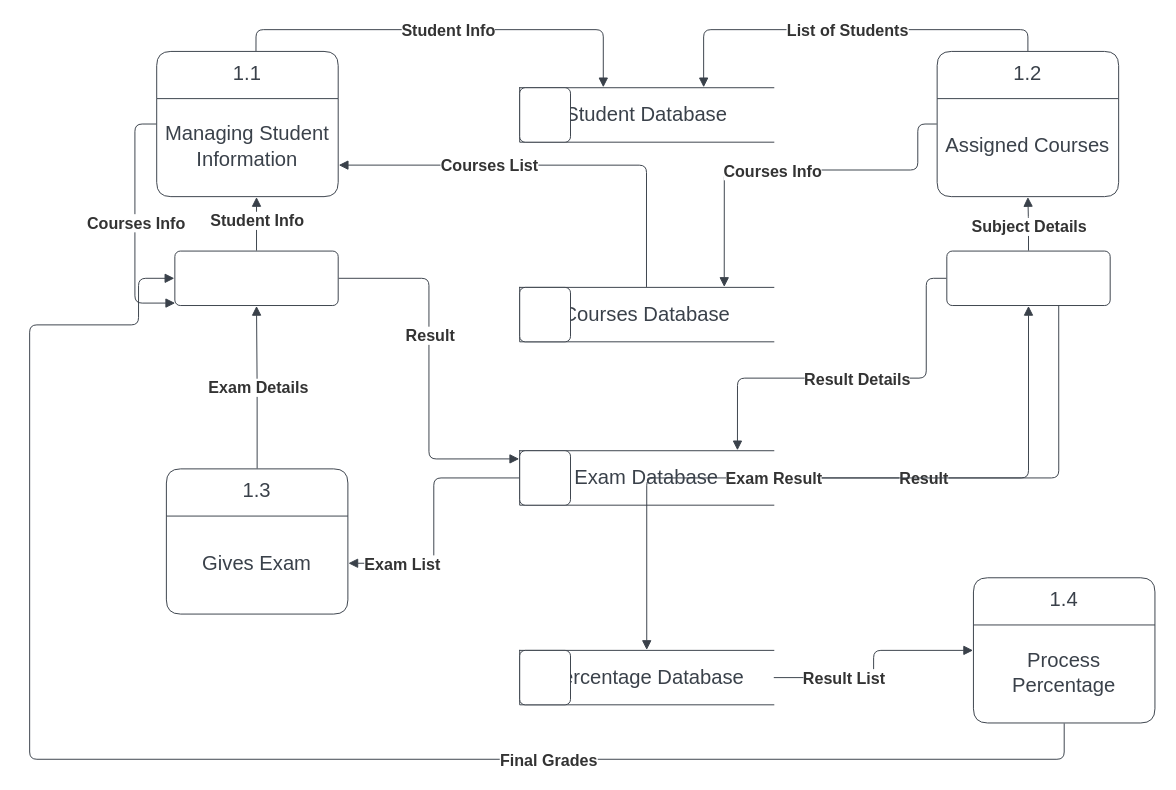
Some shapes in this 1176 by 790 pixel diagram are drawn without their labels. The centre of each missing label's shape, as x and y in pixels:
Faculty: pixel 1028 277
Student: pixel 256 277
